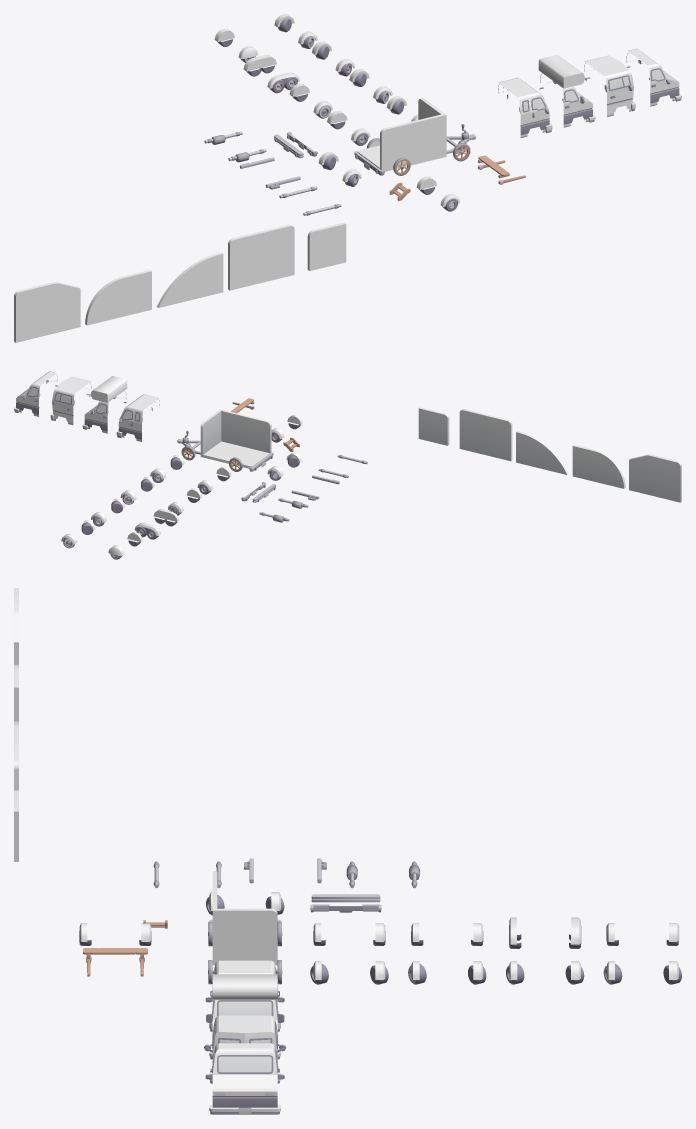
Rendered from diorama-van-types.glb.
3 renders of one model, top to bottom at view 1: azimuth 30°, elevation 25°; view 2: azimuth 150°, elevation 25°; view 3: azimuth 270°, elevation 25°, orthographic. The views are drawn at different scales.
Visible parts, largest first — view 1: wall-c, wall-f, wall-a, wall-e, wall-d, cabin-c, cabin-d, wall-b, cabin-b, cabin-a, base-d, base-c (+8 smaller); view 2: wall-c, wall-f, wall-a, wall-e, wall-d, cabin-c, cabin-d, wall-b, floor-a, cabin-b, cabin-a, wall-front (+10 smaller); view 3: cabin-a, wall-front, cabin-c, cabin-d, cabin-b.
Part boxes in pixels (bbox=[...]): wall-c: bbox=[228, 224, 294, 290]; wall-f: bbox=[14, 282, 80, 342]; wall-a: bbox=[380, 113, 446, 168]; wall-e: bbox=[85, 270, 151, 325]; wall-d: bbox=[156, 252, 223, 307]; cabin-c: bbox=[538, 54, 595, 127]; cabin-d: bbox=[584, 55, 635, 116]; wall-b: bbox=[307, 222, 346, 270]; cabin-b: bbox=[498, 77, 552, 138]; cabin-a: bbox=[626, 48, 681, 106]; base-d: bbox=[243, 55, 299, 93]; base-c: bbox=[289, 83, 332, 118]; wall-c: bbox=[459, 409, 512, 461]; wall-f: bbox=[629, 454, 681, 502]; wall-a: bbox=[219, 409, 271, 453]; wall-e: bbox=[572, 445, 625, 488]; wall-d: bbox=[516, 431, 568, 474]; cabin-c: bbox=[82, 376, 127, 433]; cabin-d: bbox=[50, 376, 91, 425]; wall-b: bbox=[418, 407, 449, 445]; floor-a: bbox=[200, 441, 271, 468]; cabin-b: bbox=[116, 394, 159, 441]; cabin-a: bbox=[14, 371, 57, 416]; wall-front: bbox=[200, 410, 221, 454]; cabin-a: bbox=[205, 1043, 284, 1114]; wall-front: bbox=[212, 908, 277, 960]; cabin-c: bbox=[206, 974, 284, 1059]; cabin-d: bbox=[204, 1015, 286, 1083]; cabin-b: bbox=[205, 960, 284, 1031].
Bounding box in the file's own units: 34.33 × 2.55 × 20.49.
